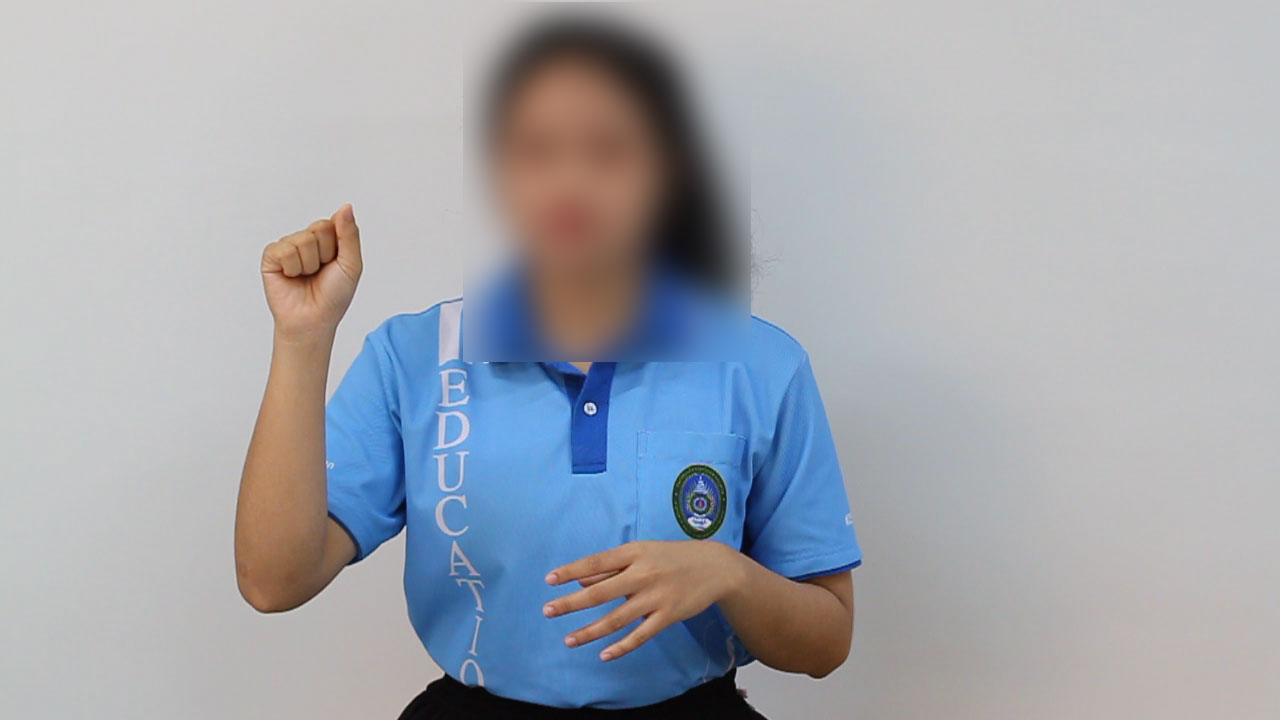sor: (236, 182, 376, 340)
